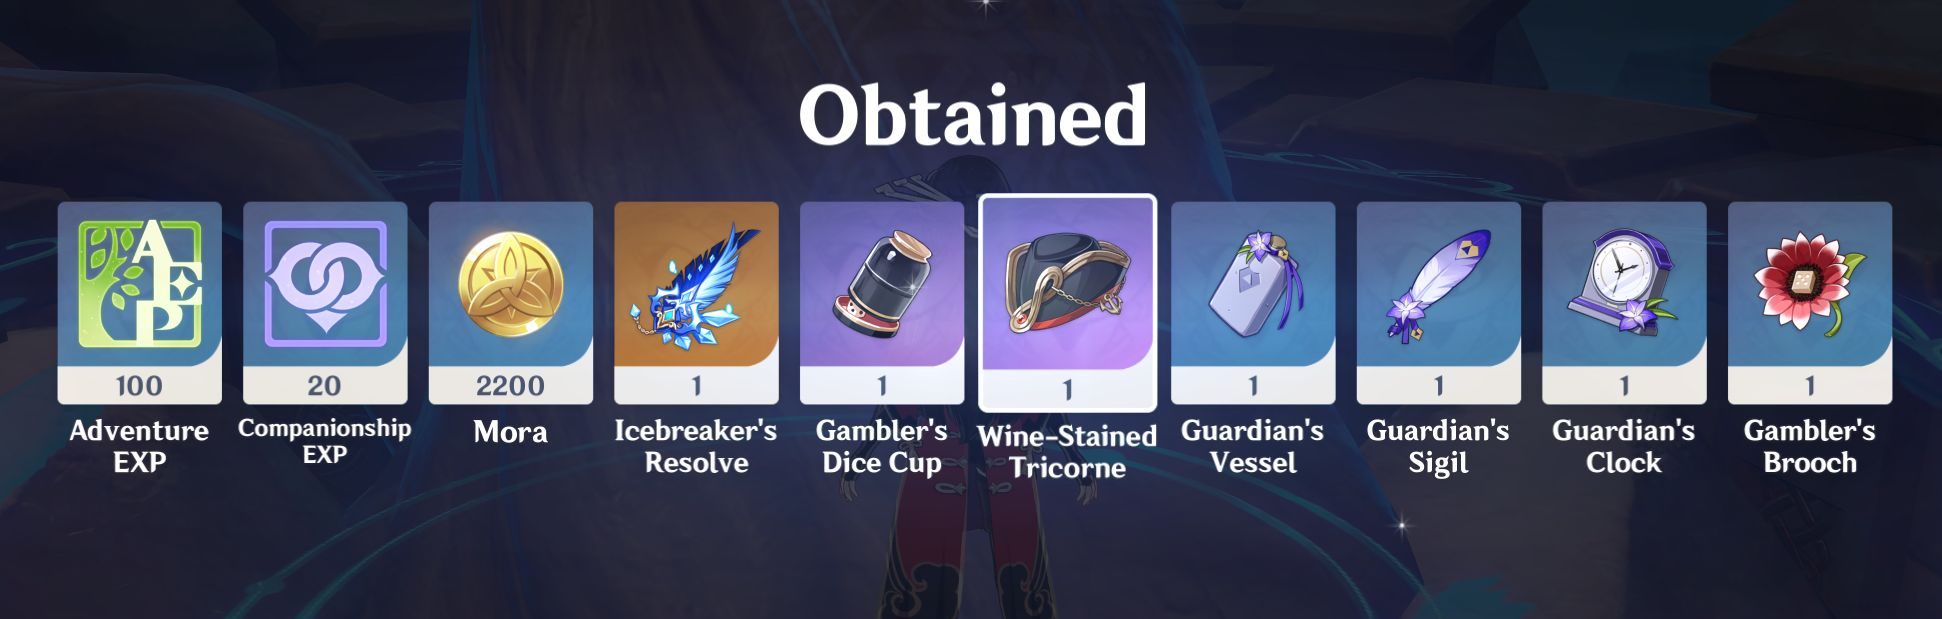3 star artifact: (1719, 189, 1909, 418), (1163, 192, 1341, 418), (1535, 191, 1717, 409), (1348, 198, 1530, 409)
4 star artifact: (973, 187, 1169, 420), (789, 192, 976, 415)
5 star artifact: (599, 191, 785, 417)
